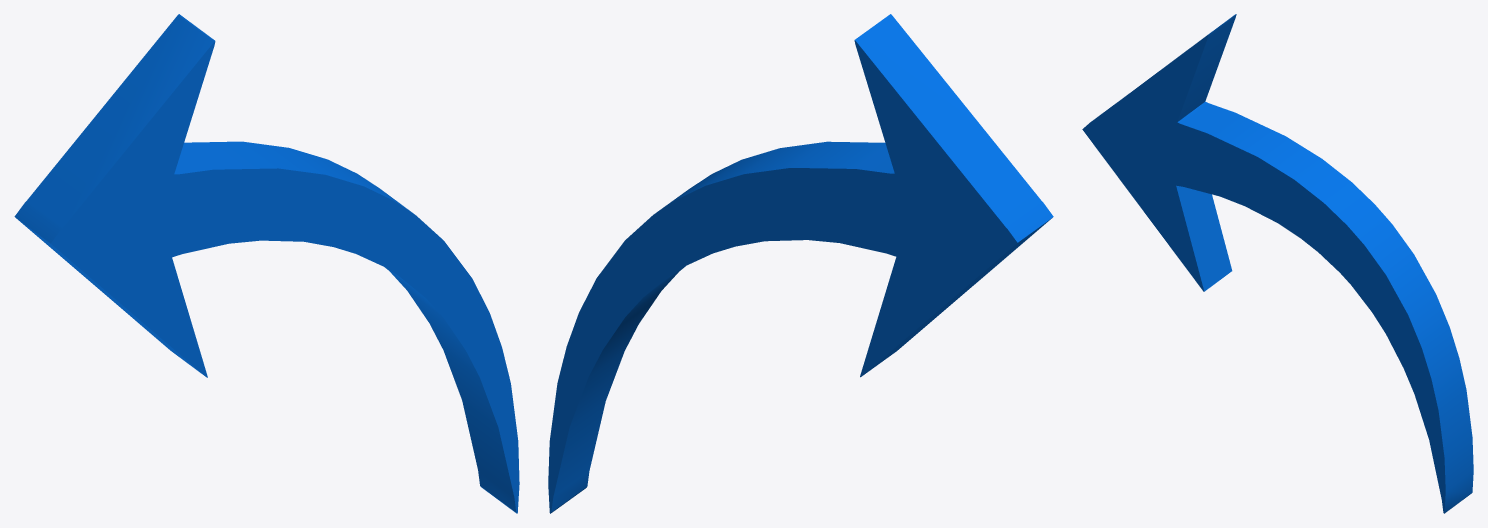
The model's file is arrow sign.fbx.
3 views of the same model, side by side, from view 1: azimuth 30°, elevation 25°; view 2: azimuth 150°, elevation 25°; view 3: azimuth 330°, elevation 25° (orthographic). The views are drawn at different scales.
Visible parts, largest first — view 1: Curve; view 2: Curve; view 3: Curve.
Boxes of the visible parts, x1,y1,x2,y2 form: Curve: (14, 14, 519, 513); Curve: (548, 14, 1053, 513); Curve: (1082, 14, 1473, 513).
Bounding box in the file's own units: 331 × 369 × 46.38.
